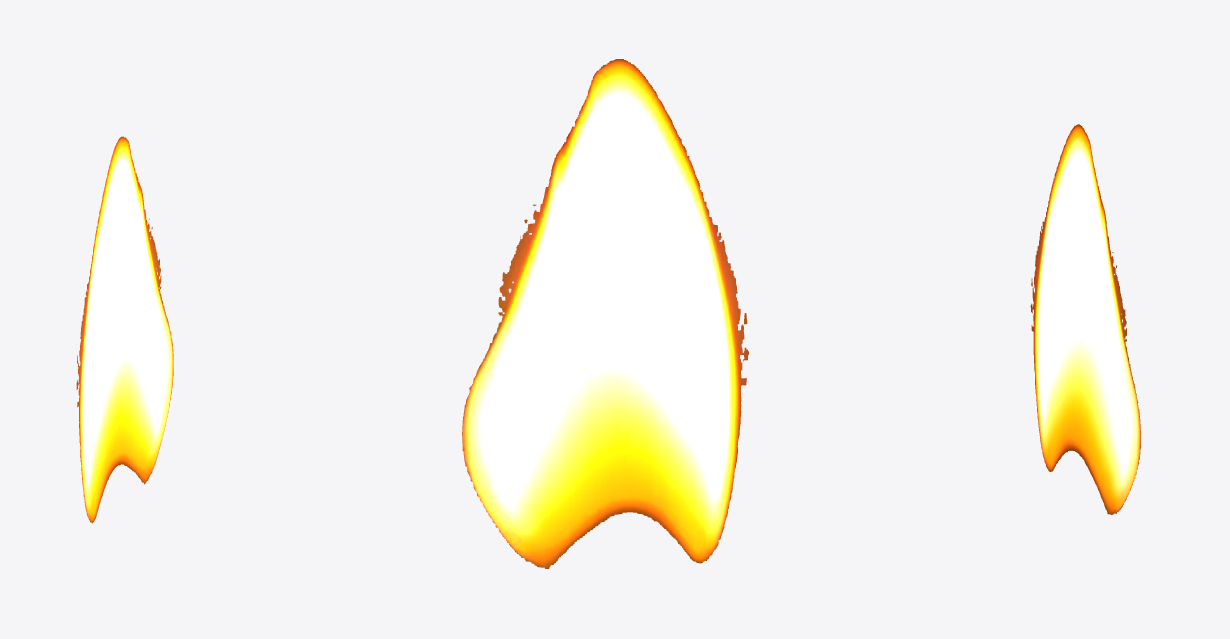
3 renders of one model, left to right at view 1: azimuth 30°, elevation 25°; view 2: azimuth 150°, elevation 25°; view 3: azimuth 270°, elevation 25°, orthographic. The views are drawn at different scales.
Visible parts, largest first — view 1: _311; view 2: _311; view 3: _311.
Part boxes in pixels (left/top/right/bottom): _311: left=76, top=136, right=173, bottom=523; _311: left=462, top=59, right=748, bottom=568; _311: left=1030, top=124, right=1140, bottom=514.
Bounding box in the file's own units: 7.36 × 8.67 × 4.58.
